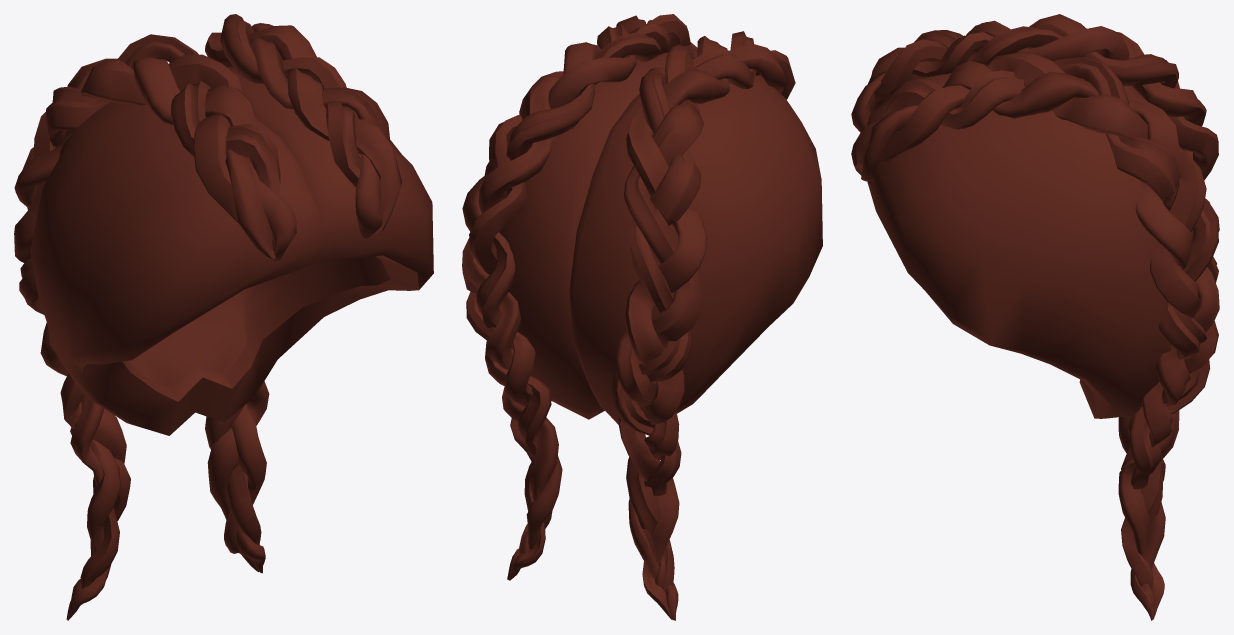
The model's file is Hair_Base_FrenchBraids_01.fbx.
The picture shows the model from 3 angles, left to right: view 1: azimuth 30°, elevation 25°; view 2: azimuth 150°, elevation 25°; view 3: azimuth 270°, elevation 25°; orthographic projection. The views are drawn at different scales.
Visible parts, largest first — view 1: BraidsBase; view 2: BraidsBase; view 3: BraidsBase.
Part boxes in pixels (x1,y1,x2,y2): BraidsBase: (14,14,433,620); BraidsBase: (462,14,822,620); BraidsBase: (851,14,1219,620).
Size of the model in its own units: 159 by 166 by 266.
